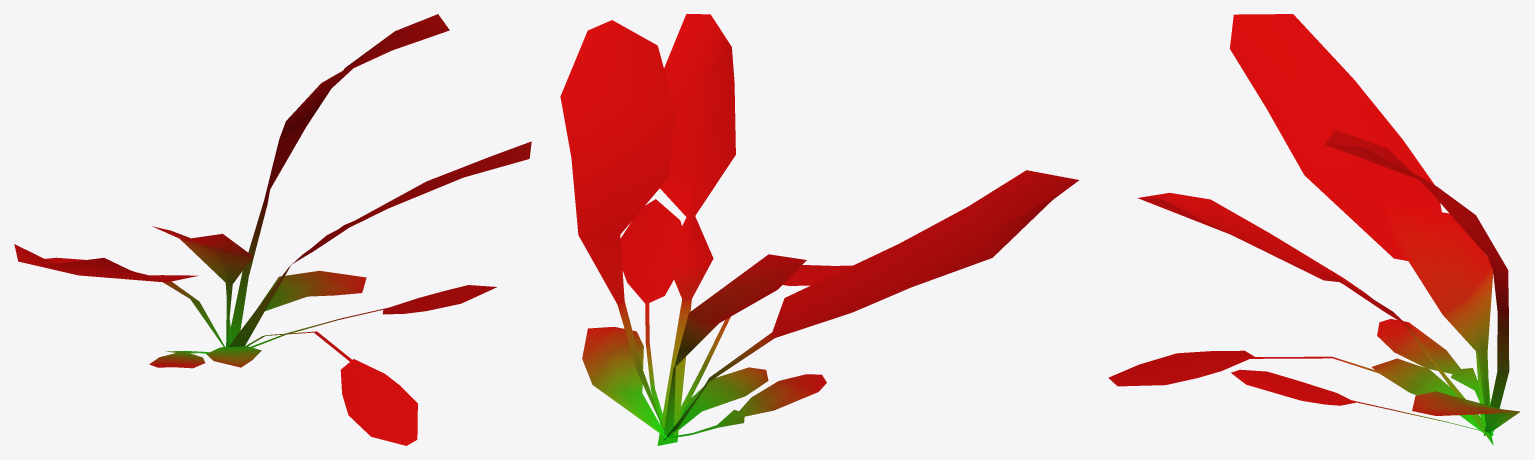
The model's file is Var17_LOD2.fbx.
The picture shows the model from 3 angles, left to right: view 1: azimuth 30°, elevation 25°; view 2: azimuth 150°, elevation 25°; view 3: azimuth 270°, elevation 25°; orthographic projection. The views are drawn at different scales.
Visible parts, largest first — view 1: _cd7j_Var17_LOD2; view 2: _cd7j_Var17_LOD2; view 3: _cd7j_Var17_LOD2.
Boxes of the visible parts, x1,y1,x2,y2 form: _cd7j_Var17_LOD2: [14, 14, 531, 445]; _cd7j_Var17_LOD2: [560, 14, 1078, 445]; _cd7j_Var17_LOD2: [1108, 14, 1519, 445].
Size of the model in its own units: 23.47 by 17.53 by 17.84.
